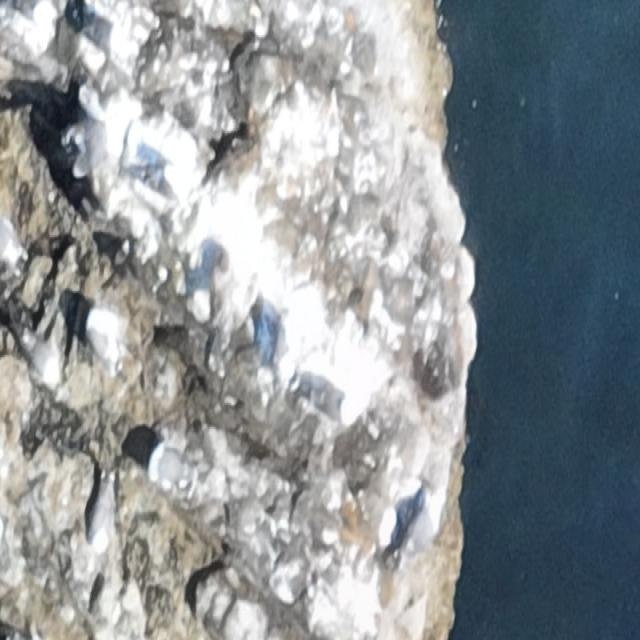umineko: (396, 491, 446, 561), (16, 320, 64, 381), (147, 442, 194, 490), (88, 475, 116, 552), (92, 319, 122, 360)
